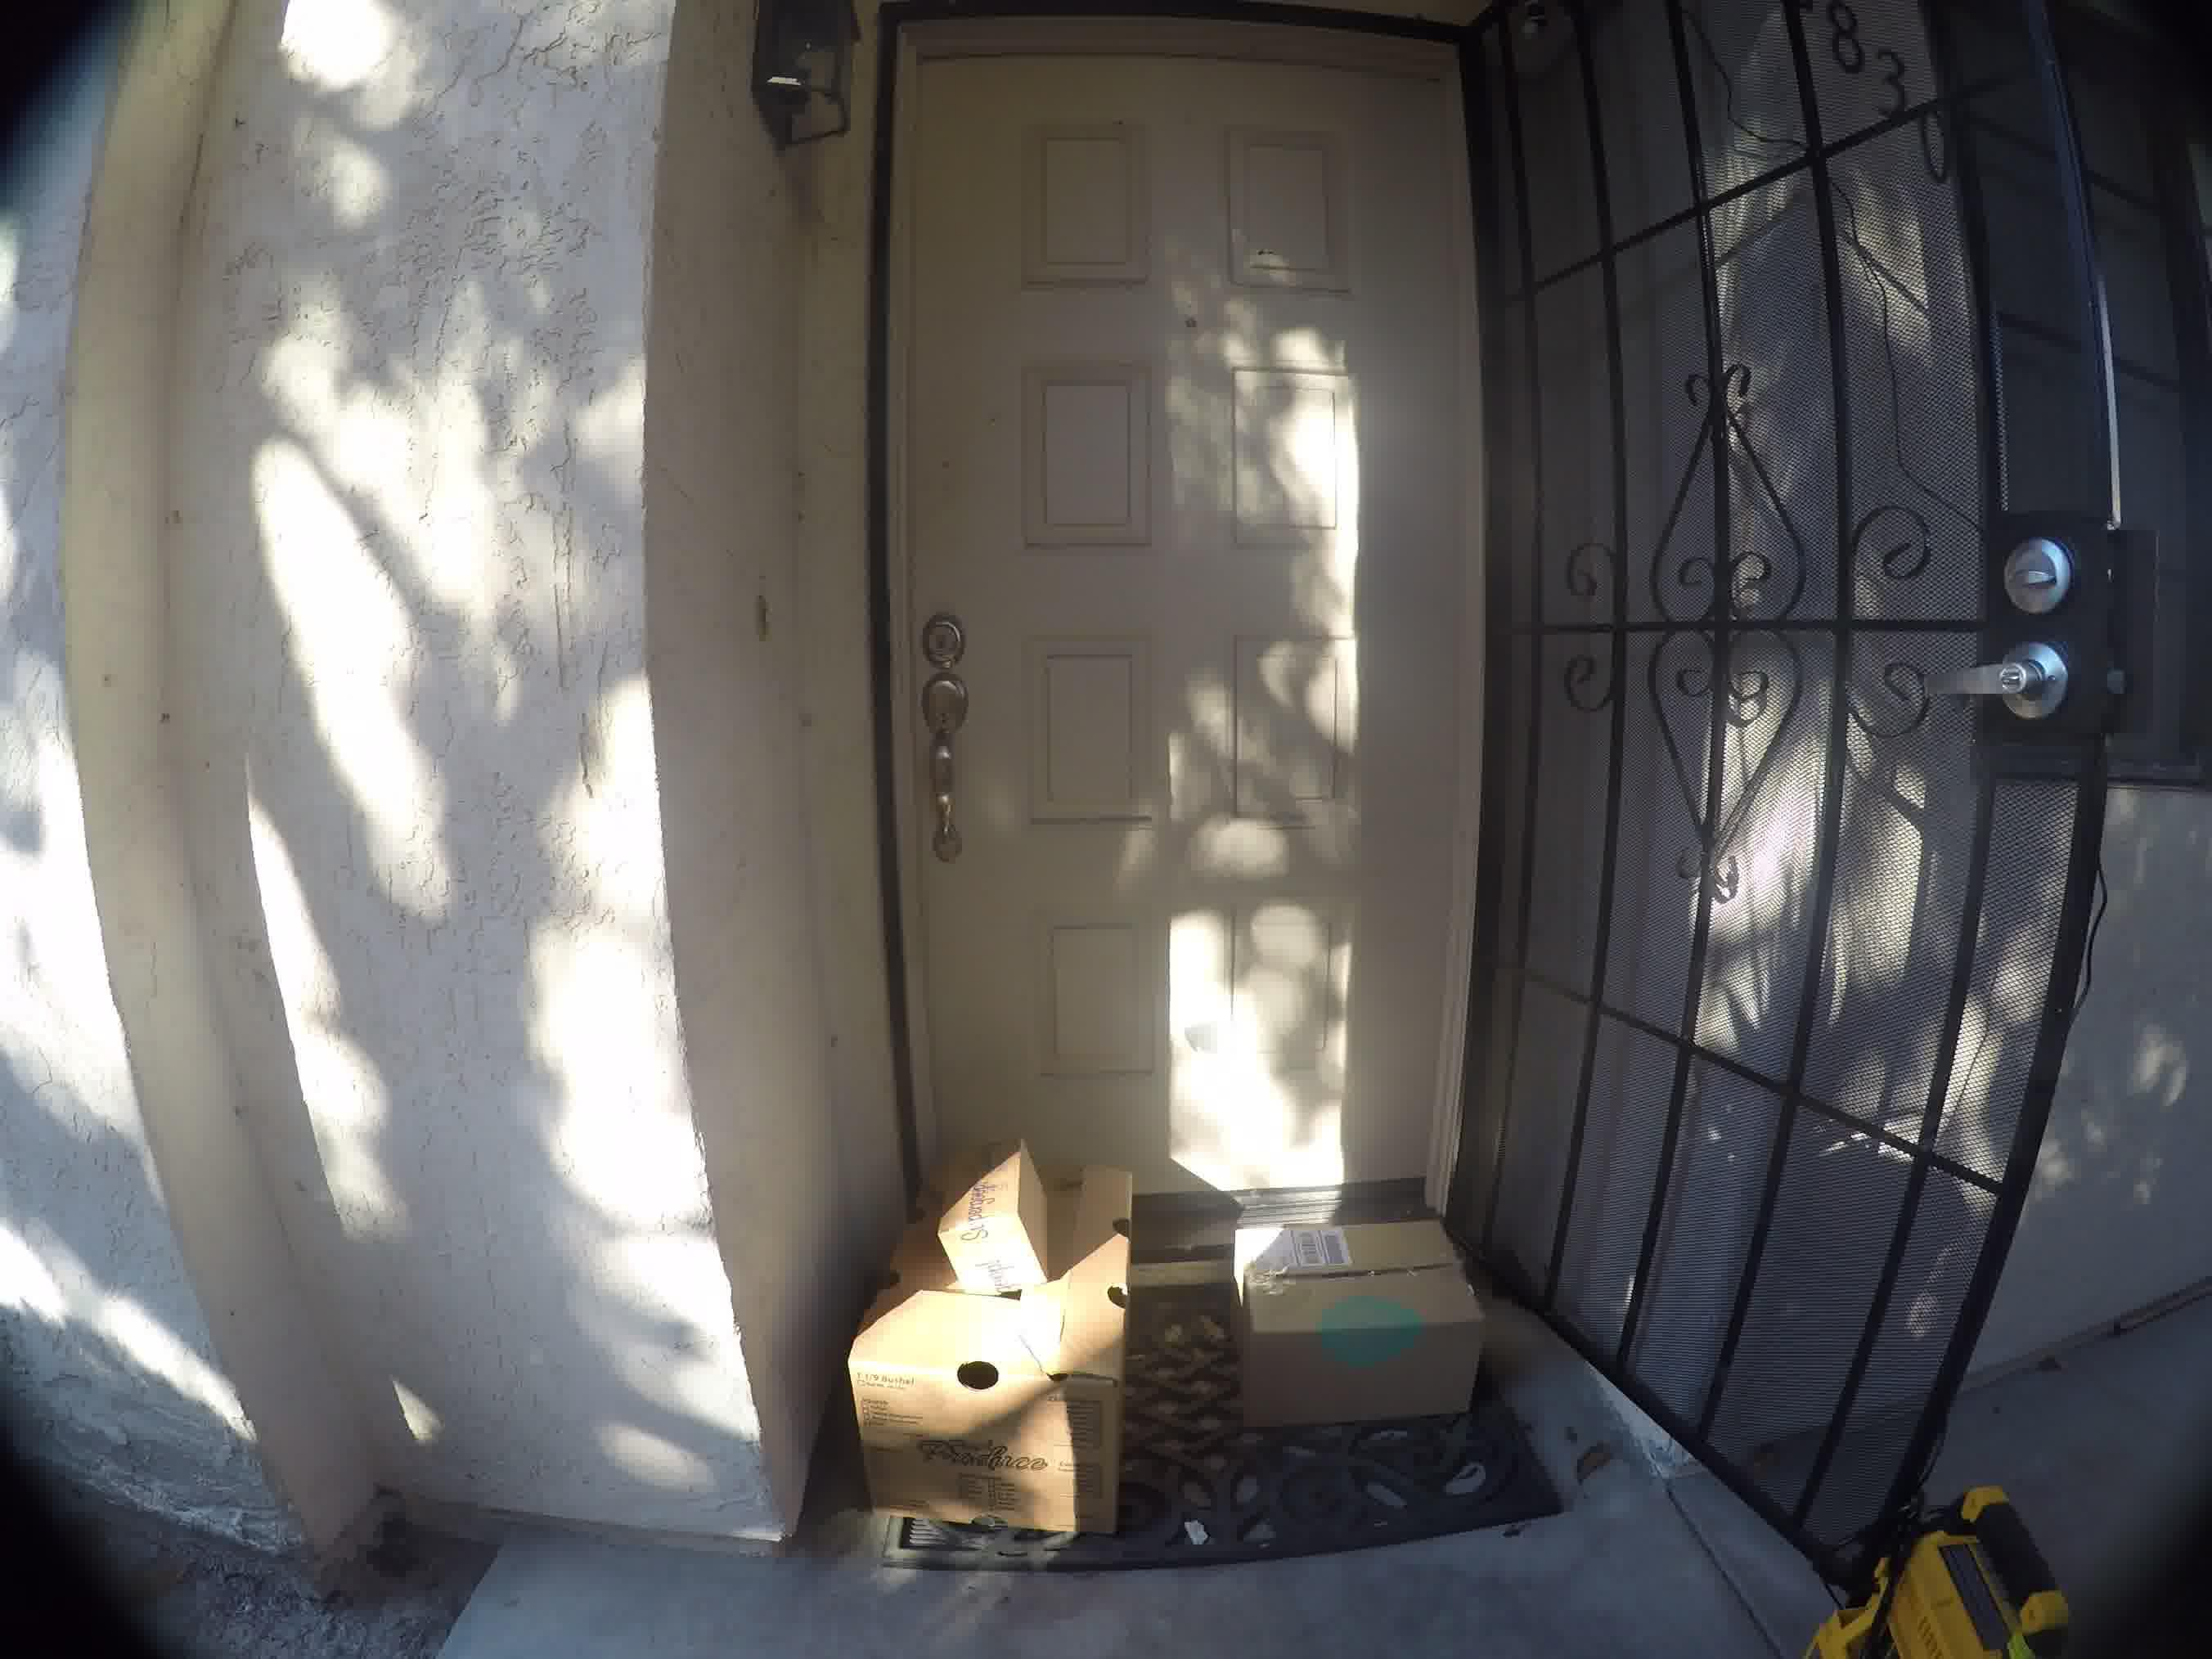box: (862, 1129, 1146, 1561), (1219, 1194, 1489, 1431)
